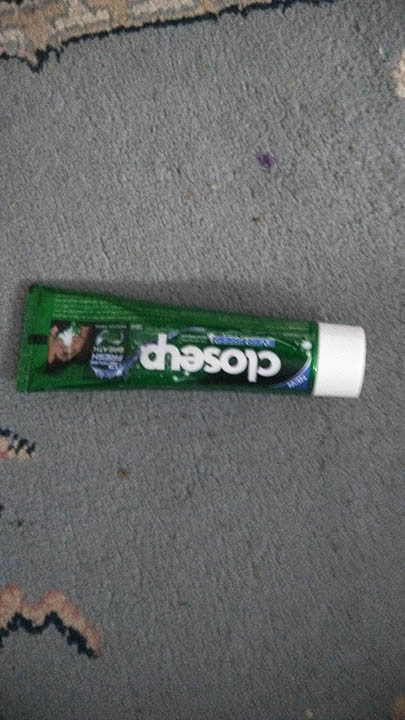Toothpaste-Closeup 3.04$: (20, 282, 375, 414)
